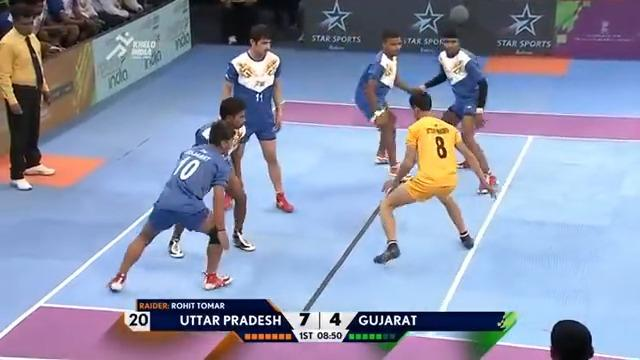Player: (105, 118, 246, 294), (219, 23, 296, 214), (418, 29, 498, 193), (353, 28, 424, 171), (203, 101, 257, 242)
Raider: (371, 89, 498, 265)
referee: (0, 0, 59, 190)
